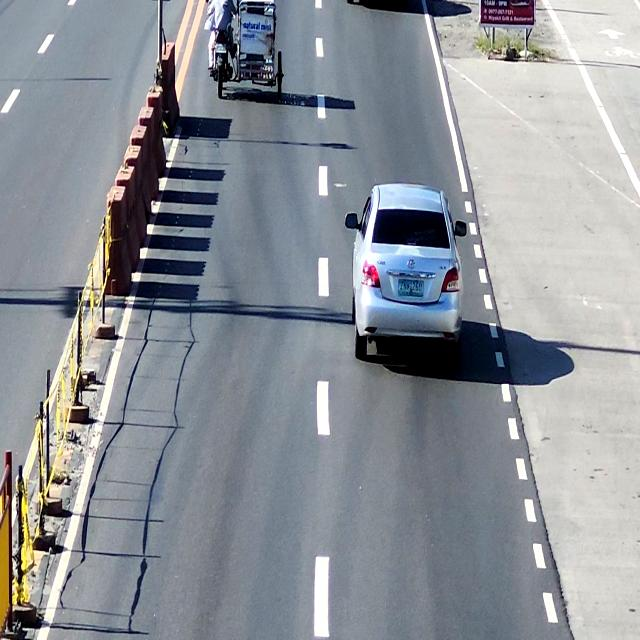Car: (350, 184, 468, 367)
License-Plate: (397, 278, 426, 306), (213, 42, 230, 58)
Tricycle: (211, 0, 284, 95)
